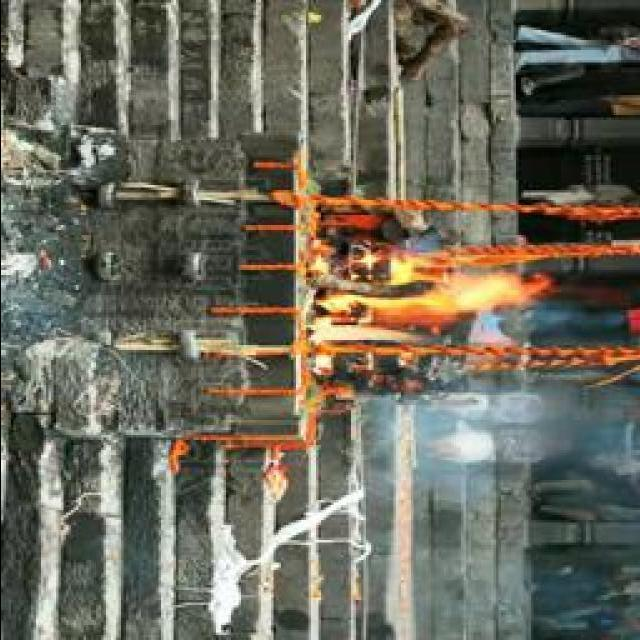Fire: (307, 248, 543, 348)
